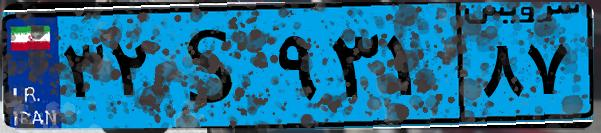1: (385, 28, 445, 110)
2: (110, 28, 158, 98)
3: (330, 28, 385, 110), (57, 26, 110, 100)
7: (525, 38, 570, 115)
8: (475, 38, 525, 113)
9: (270, 28, 330, 110)
S: (158, 12, 270, 120)
